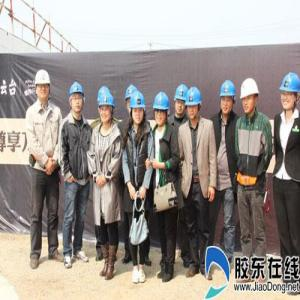blue: (279, 72, 300, 115), (152, 91, 172, 128), (219, 80, 238, 117), (129, 91, 148, 128), (97, 92, 116, 127), (68, 82, 86, 116), (186, 88, 203, 122), (174, 84, 190, 119)
white: (240, 78, 260, 116), (34, 69, 53, 104)
